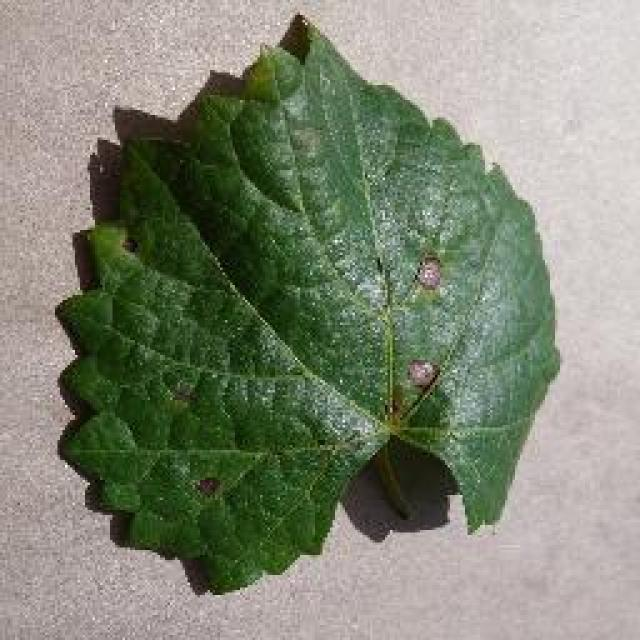Black_rot: (56, 20, 576, 573)
